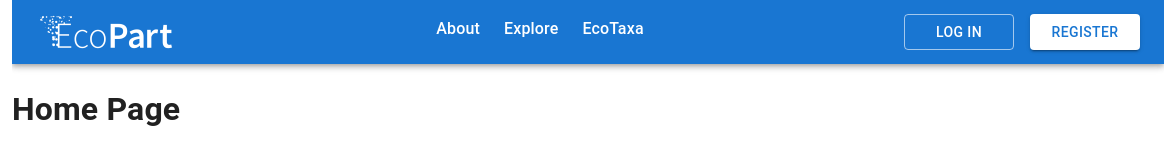
Scenario: TopBar (Z) › TC-Z4: shows Log in / Register when unauthenticated and navigates
Expected: the button "Register" is shown, [1030, 14, 1140, 50]
Click the button "Log in" at (959, 32), box [904, 14, 1014, 50]
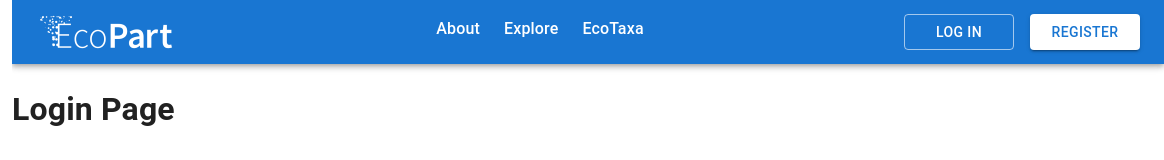
Expected: the heading "Login Page" is shown, [12, 90, 175, 128]
